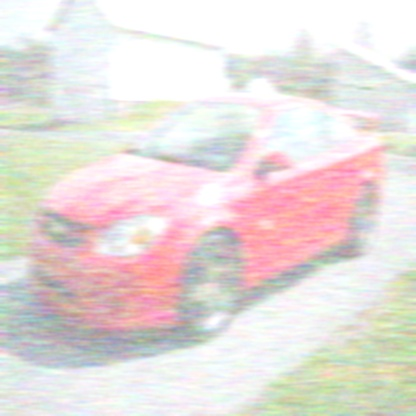Vehicle: (26, 93, 387, 353)
